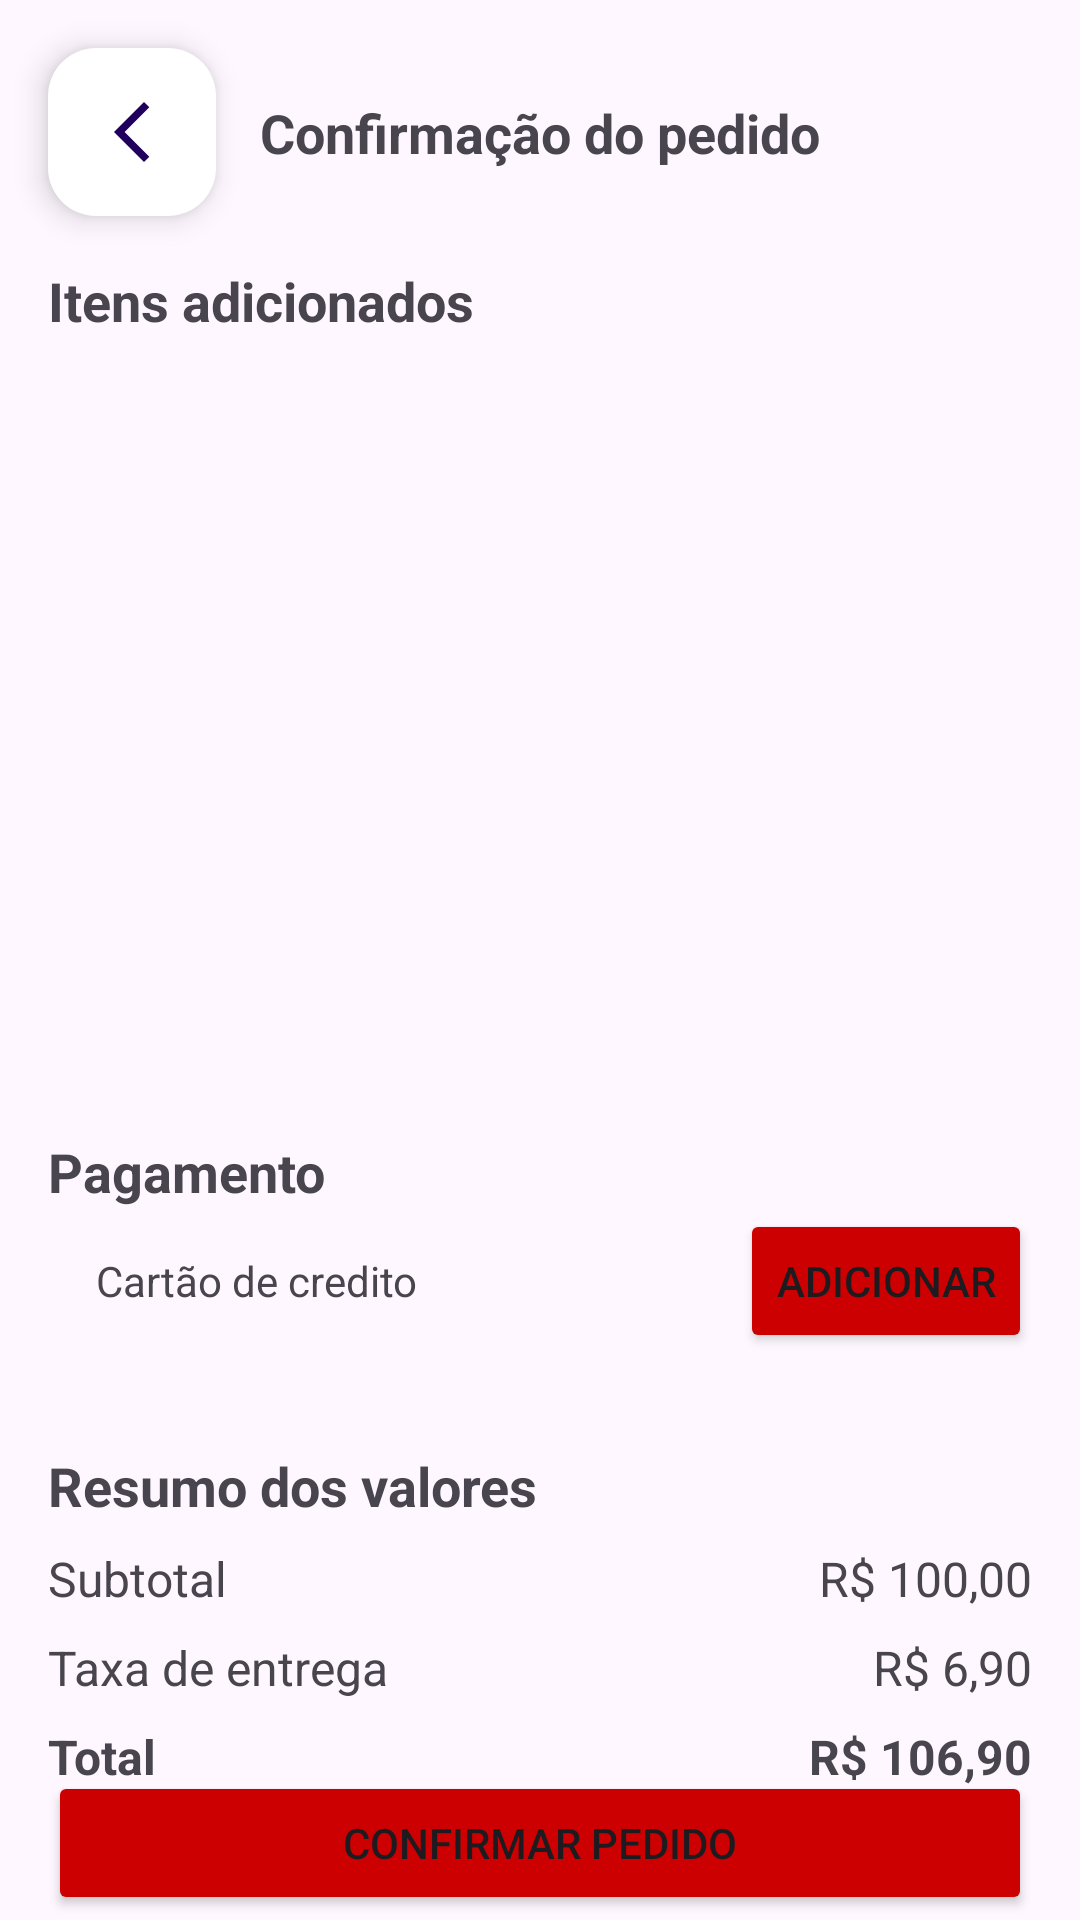

Locate icon controls on the screen. Image size 1080w x 1920h, boxes as [x1=x1, y1=y1, x2=x2, y2=y2].
voltar: [x1=48, y1=48, x2=216, y2=216]
